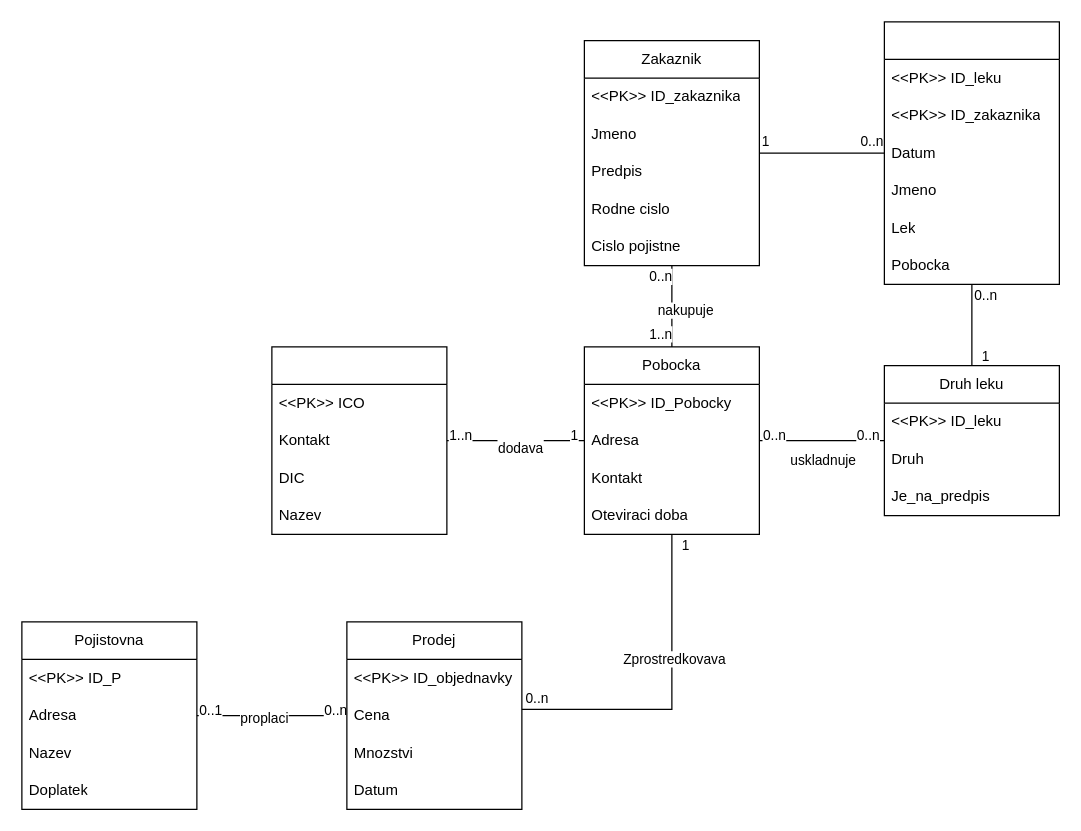
Some shapes in this 1081 by 831 pixel diagram are drawn without their labels. The box of each missing label's shape, as (x1, y1, x2, y2) in pixels:
Dodavatel: (271, 346, 447, 534)
Rezervace: (883, 21, 1059, 284)
